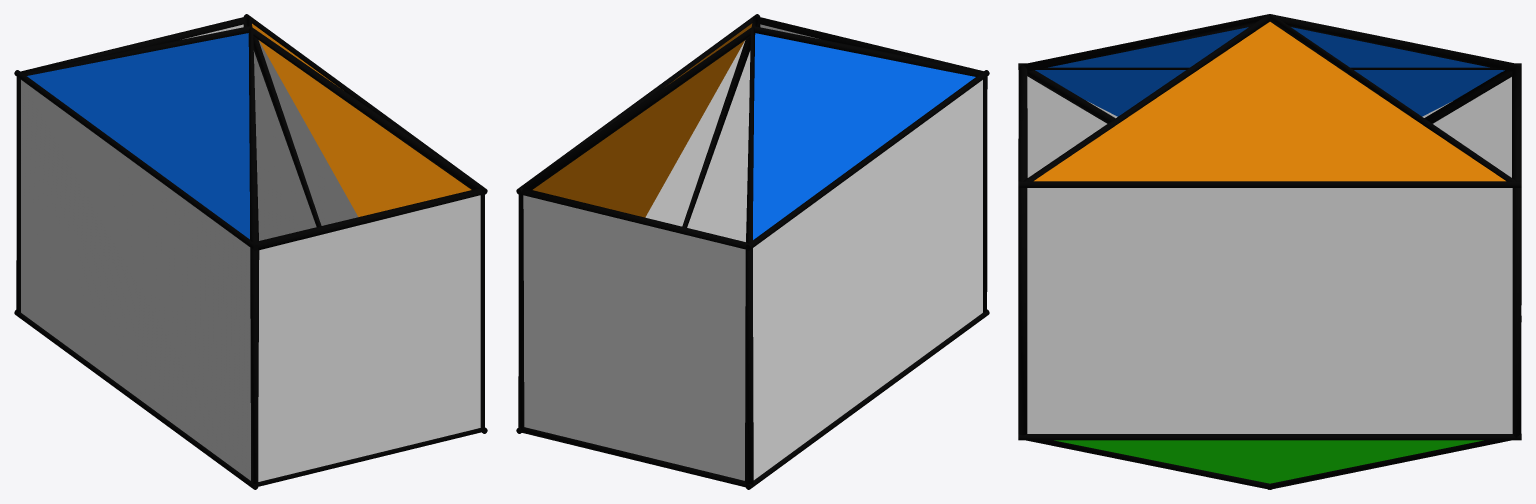
The model's file is Cubicon10.glb.
3 renders of one model, left to right at view 1: azimuth 30°, elevation 25°; view 2: azimuth 150°, elevation 25°; view 3: azimuth 270°, elevation 25°, orthographic. The views are drawn at different scales.
Parts seen in each view (by area): view 1: CUBICON_INTERPRETATION_COLOR_LD_DESKTOP.001, CUBICON_COMPREHENSION _COLOR_SQ_DESKTOP, Cubicon Original, Active.001; view 2: CUBICON_INTERPRETATION_COLOR_LD_DESKTOP.001, CUBICON_COMPREHENSION _COLOR_SQ_DESKTOP, Cubicon Original, Active.001; view 3: CUBICON_INTERPRETATION_COLOR_LD_DESKTOP.001, Cubicon Original, Active.001.
Part boxes in pixels (bbox=[...]): CUBICON_INTERPRETATION_COLOR_LD_DESKTOP.001: bbox=[21, 40, 357, 480]; CUBICON_COMPREHENSION _COLOR_SQ_DESKTOP: bbox=[182, 24, 480, 481]; Cubicon Original: bbox=[16, 16, 484, 486]; Active.001: bbox=[14, 14, 487, 489]; CUBICON_INTERPRETATION_COLOR_LD_DESKTOP.001: bbox=[645, 40, 982, 479]; CUBICON_COMPREHENSION _COLOR_SQ_DESKTOP: bbox=[523, 24, 818, 480]; Cubicon Original: bbox=[518, 16, 987, 487]; Active.001: bbox=[516, 14, 989, 489]; CUBICON_INTERPRETATION_COLOR_LD_DESKTOP.001: bbox=[1027, 76, 1512, 433]; Cubicon Original: bbox=[1018, 14, 1521, 489]; Active.001: bbox=[1018, 63, 1521, 440].
Size of the model in its own units: 0.6832 by 1.26 by 1.21.
